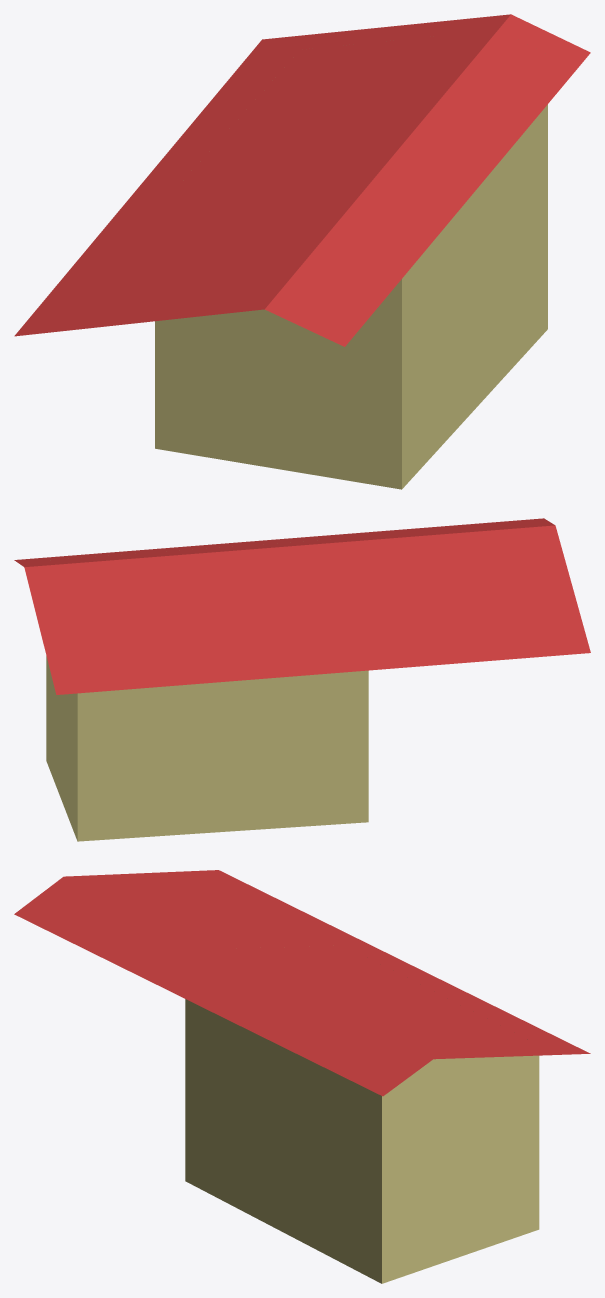
3 views of the same model, one above another, from view 1: azimuth 30°, elevation 25°; view 2: azimuth 150°, elevation 25°; view 3: azimuth 270°, elevation 25° (orthographic). The views are drawn at different scales.
Size of the model in its own units: 17.56 by 16.7 by 7.14.
